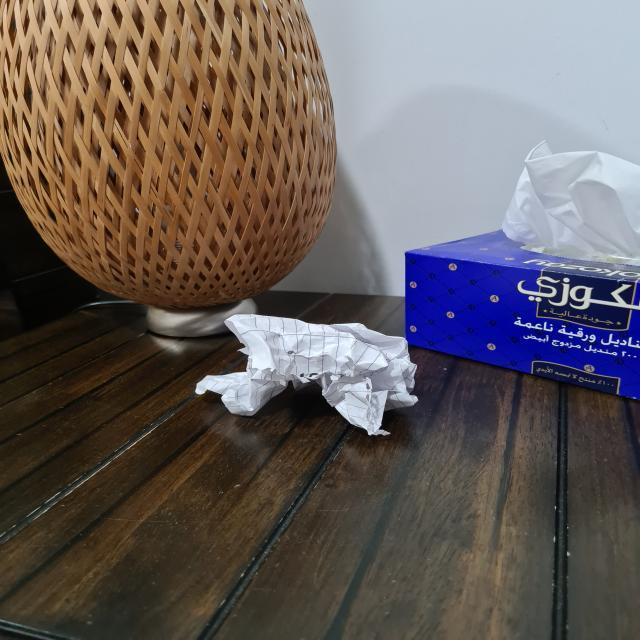Paper: (200, 313, 417, 435)
